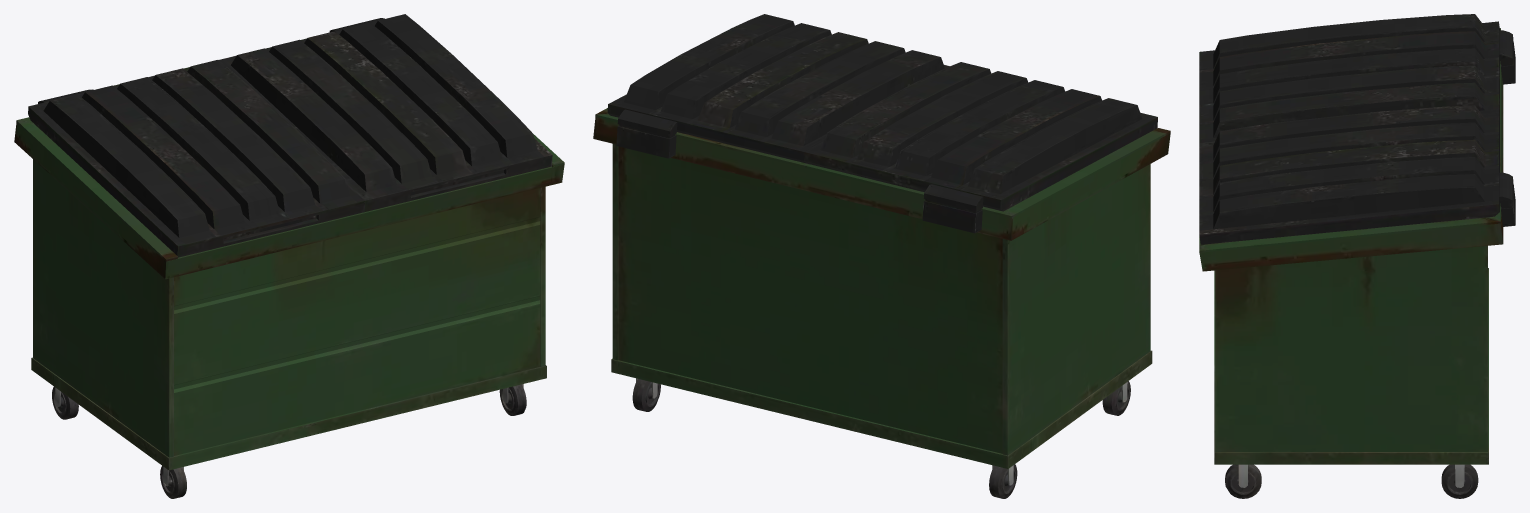
Rendered from dumpster-4k.glb.
3 renders of one model, left to right at view 1: azimuth 30°, elevation 25°; view 2: azimuth 150°, elevation 25°; view 3: azimuth 270°, elevation 25°, orthographic. The views are drawn at different scales.
Visible parts, largest first — view 1: Dumpster_Dumpster_MTL_0; view 2: Dumpster_Dumpster_MTL_0; view 3: Dumpster_Dumpster_MTL_0.
Part boxes in pixels (<box>): Dumpster_Dumpster_MTL_0: <box>14,14,564,498</box>; Dumpster_Dumpster_MTL_0: <box>593,14,1170,498</box>; Dumpster_Dumpster_MTL_0: <box>1199,14,1515,498</box>.
Bounding box in the file's own units: 1.86 × 1.4 × 1.28.
Materials: 1 (1 with a texture image).
